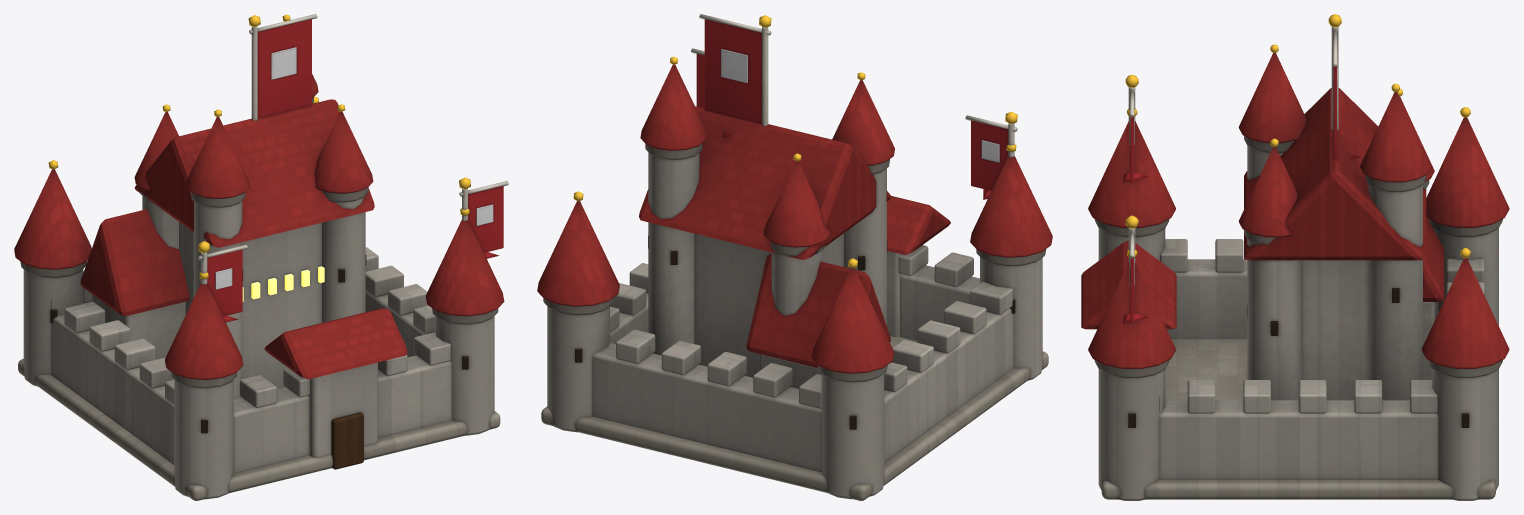
File: castle_red.glb
3 renders of one model, left to right at view 1: azimuth 30°, elevation 25°; view 2: azimuth 150°, elevation 25°; view 3: azimuth 270°, elevation 25°, orthographic. The views are drawn at different scales.
Parts seen in each view (by area): view 1: base; view 2: base; view 3: base.
Part boxes in pixels (x1,y1,x2,y2): base: (14, 14, 508, 500); base: (537, 14, 1052, 500); base: (1081, 14, 1509, 500).
Bounding box in the file's own units: 1.42 × 1.5 × 1.41.
3 materials, 1 textured.
